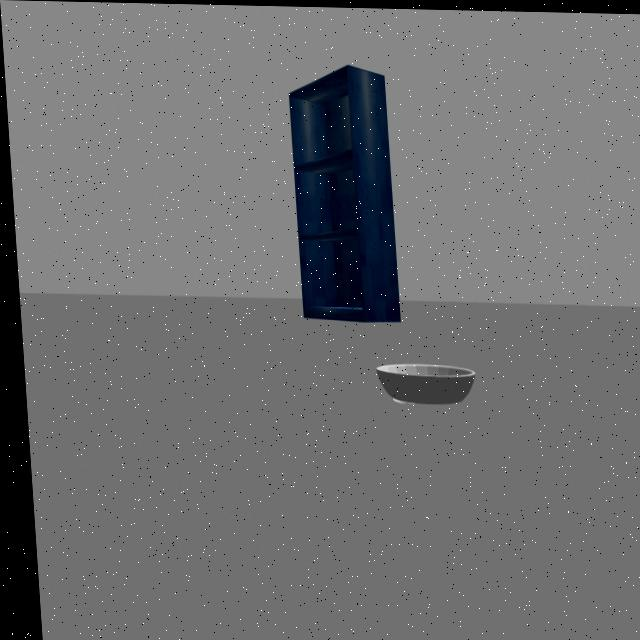bowl: (366, 352, 475, 421)
shelf: (278, 56, 403, 334)
